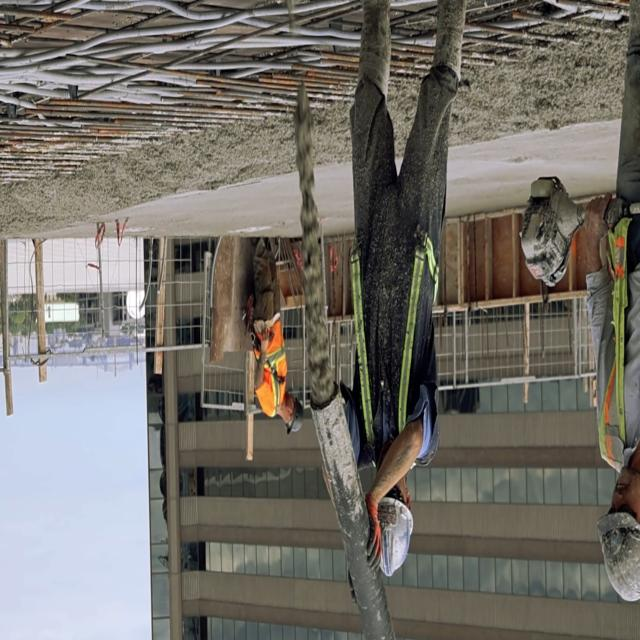Boots: (352, 0, 396, 99), (432, 0, 471, 80)
Helmet: (367, 494, 416, 580), (602, 512, 640, 603), (285, 400, 305, 440)
Vest: (600, 200, 640, 477), (257, 314, 289, 426)
